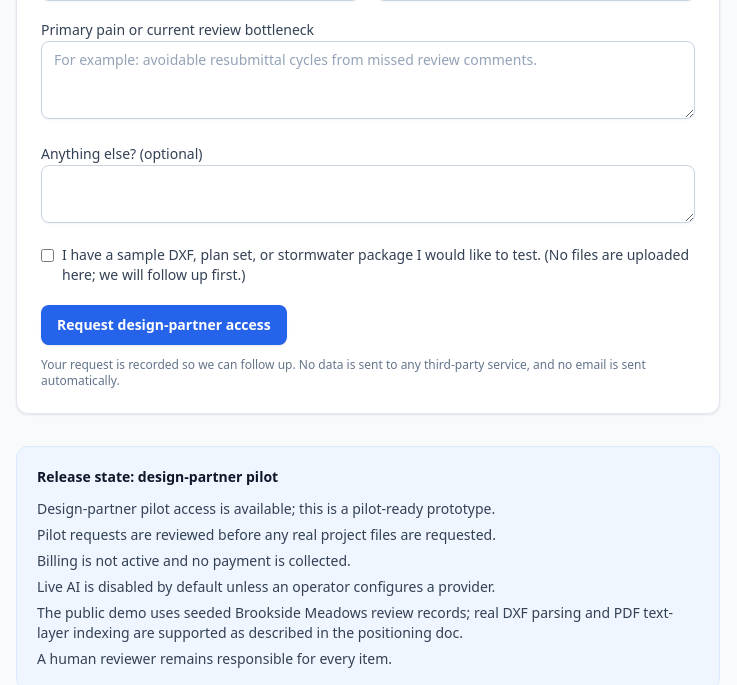
it: Pilot form submission › blocks submission and shows an error when required fields are empty
The image size is (737, 685).
(page scrolled)
Click the button "Request design-partner access": coordinates (164, 325) [41, 305, 287, 345]
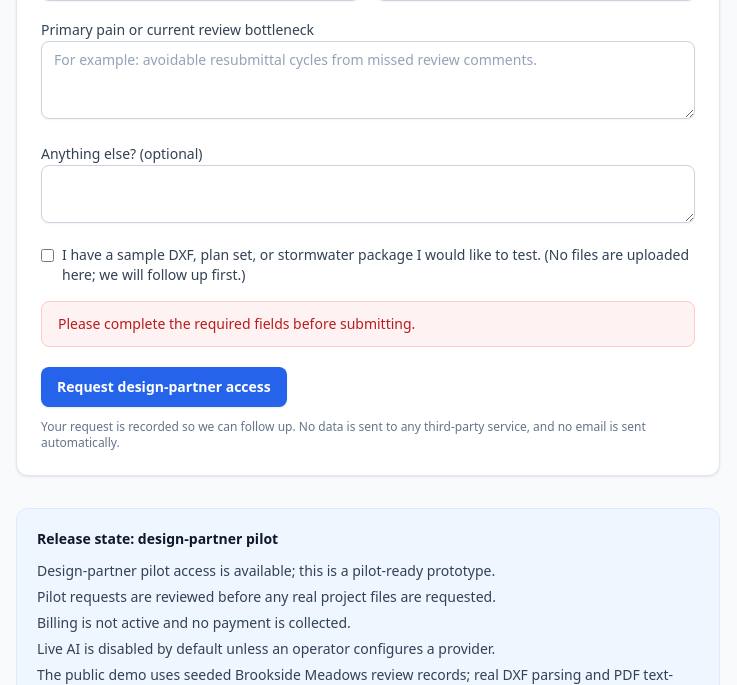
Check: the text "Please complete the required fields before submitting." is shown, box [41, 301, 695, 347]
